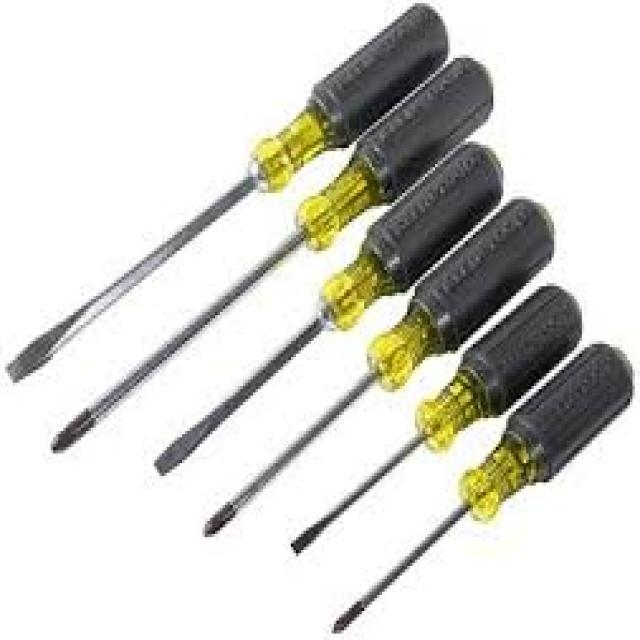screw driver: (275, 283, 640, 620)
